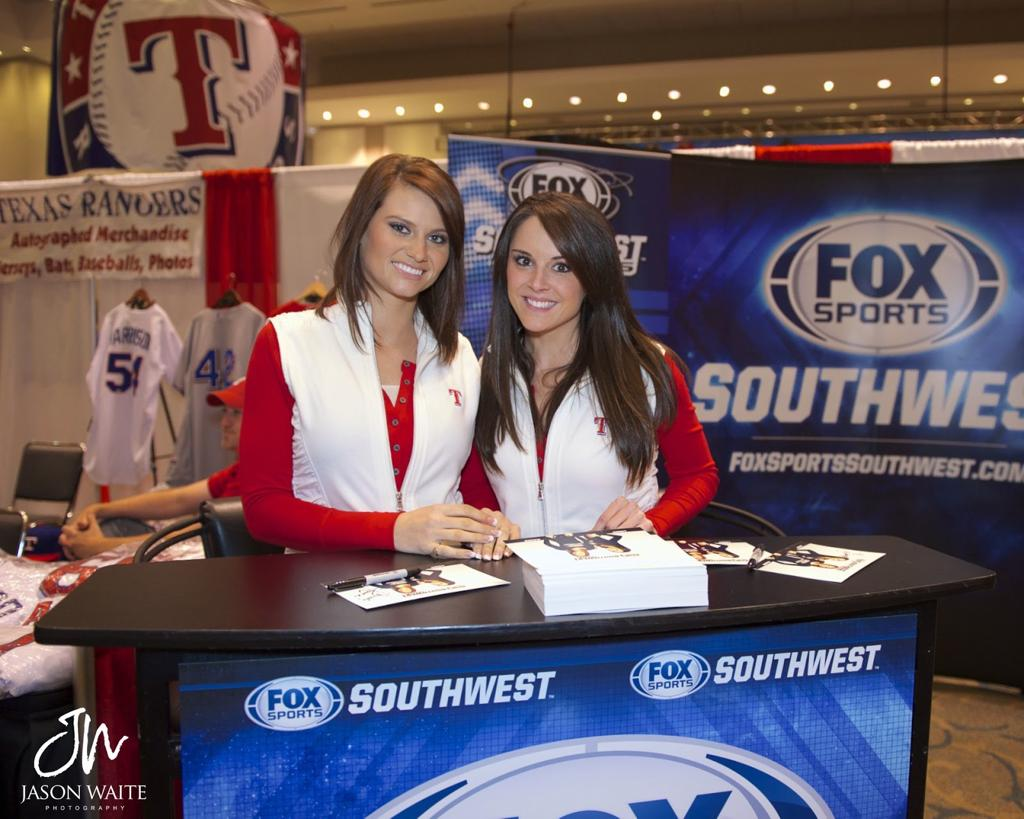face: (366, 180, 454, 298), (500, 218, 590, 332)
